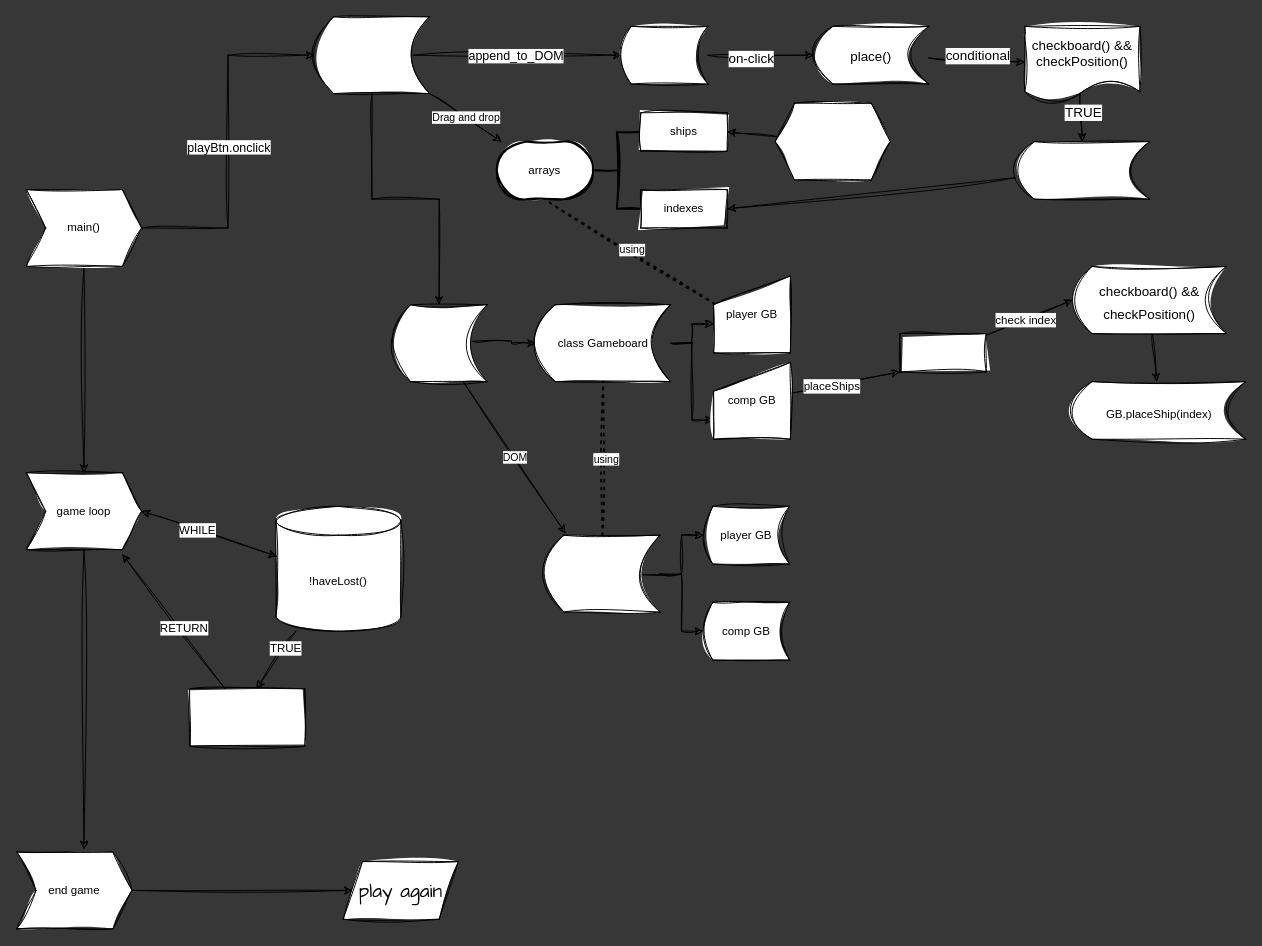
The diagram is 1262 pixels wide and 946 high, and some of its shapes have lost their labels. The shapes that lost their labels are listed below. From the top down, each one's centre as x and y in pixels, then its label:
the point at 371,55: pre_game()
the point at 664,54: createGrid()
the point at 832,141: class Ship
the point at 1082,170: record index
the point at 438,343: doneBtn
the point at 942,352: random index
the point at 602,573: create GBs
the point at 247,717: winner
